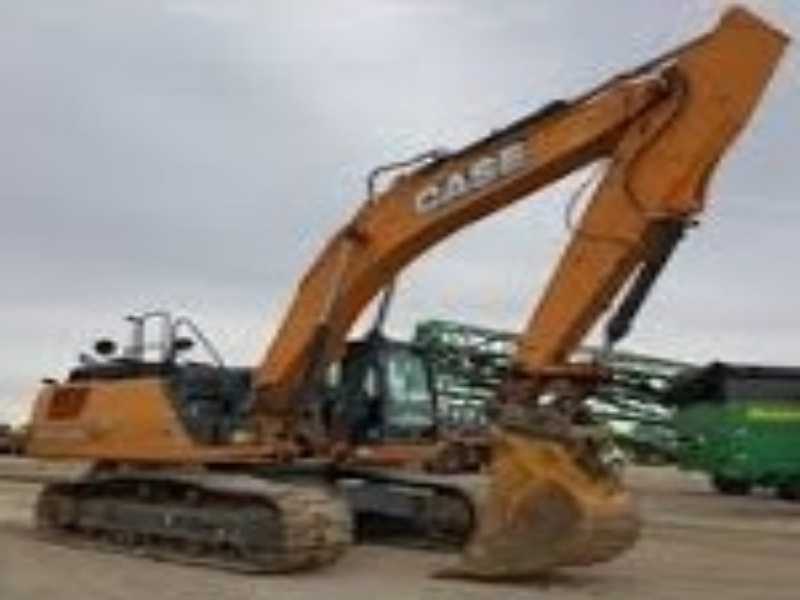wajueji: (16, 283, 682, 585)
